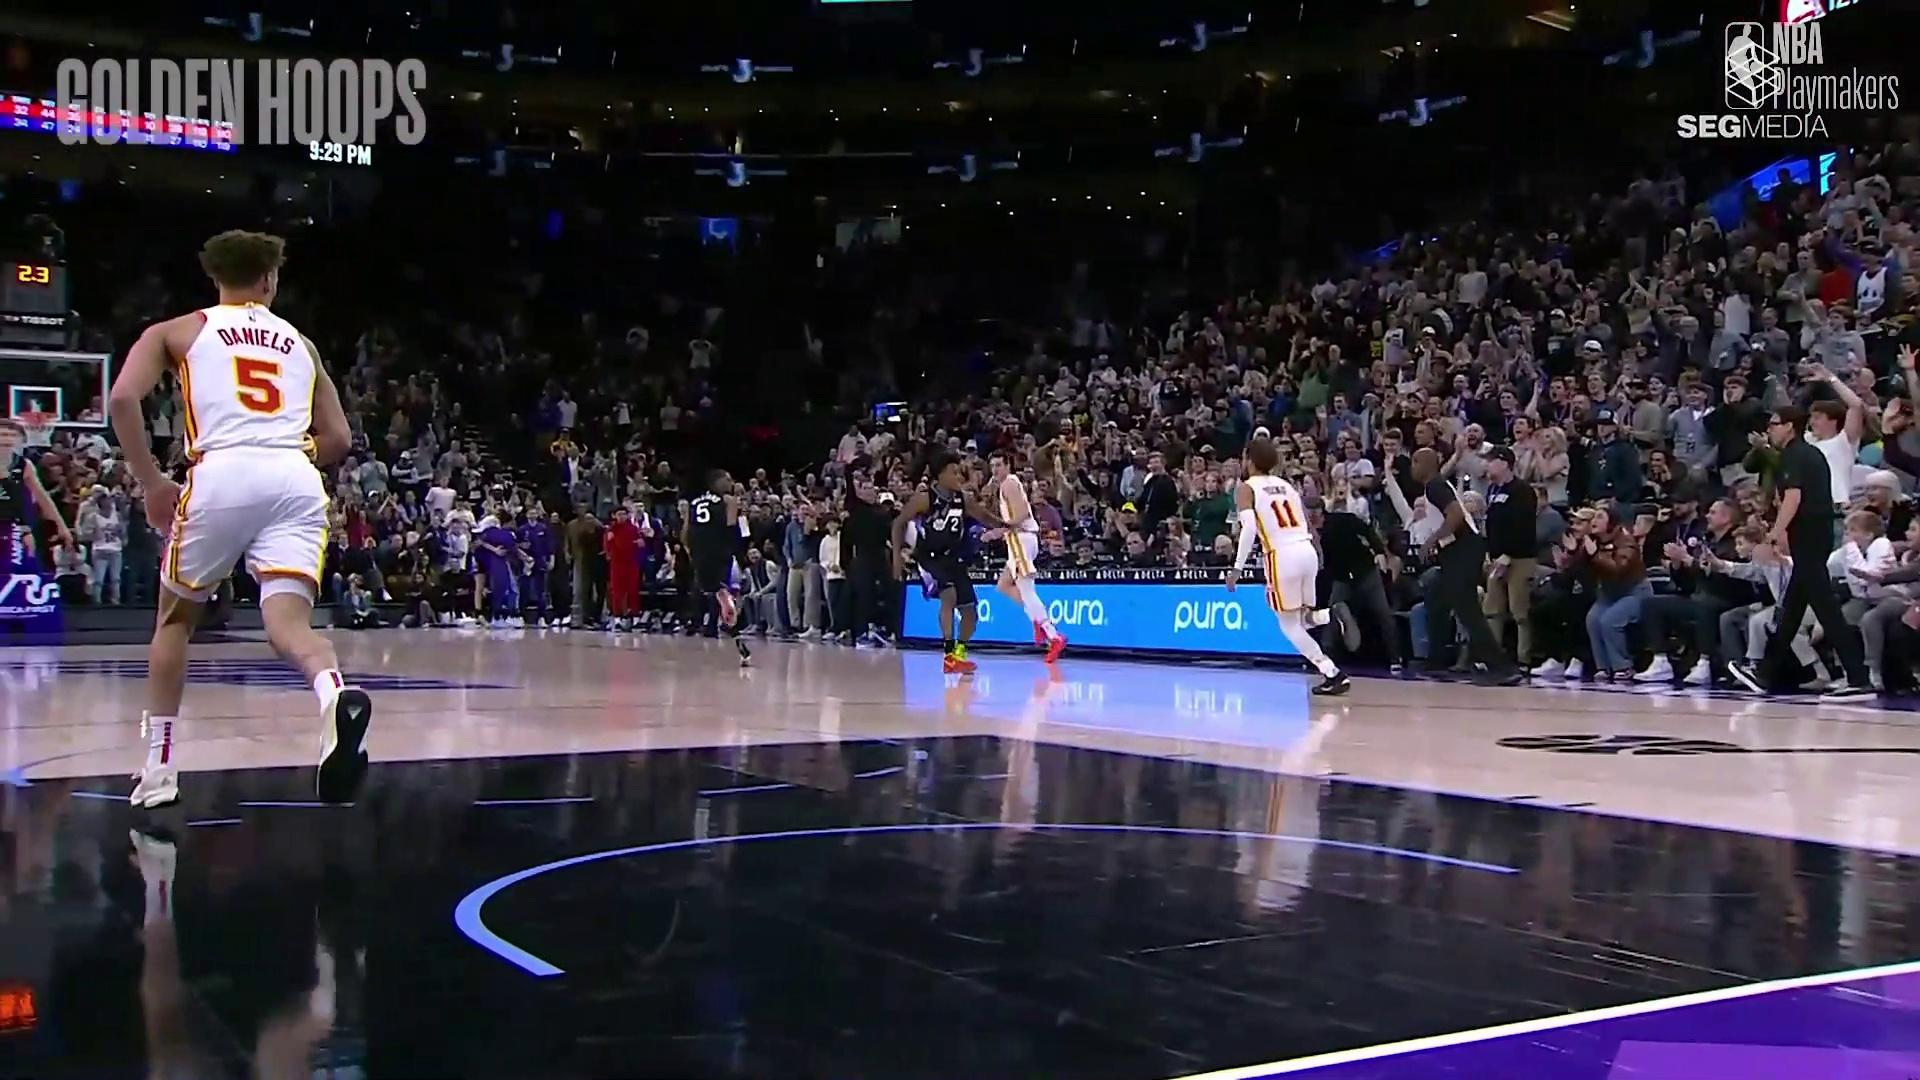hoop: (20, 405, 59, 450)
